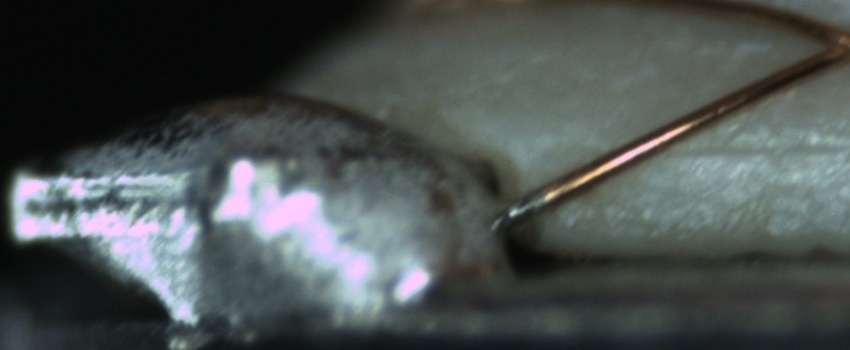CL: (801, 14, 850, 74)
DL: (672, 112, 849, 179)
TS: (502, 190, 551, 228)
